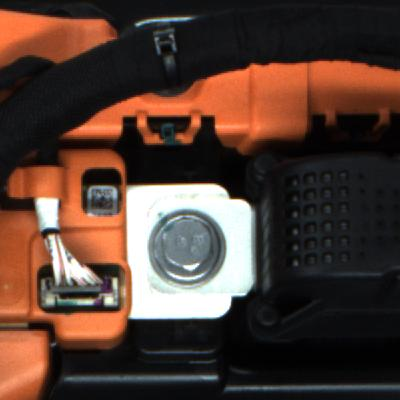nut_b: (143, 199, 242, 291)
